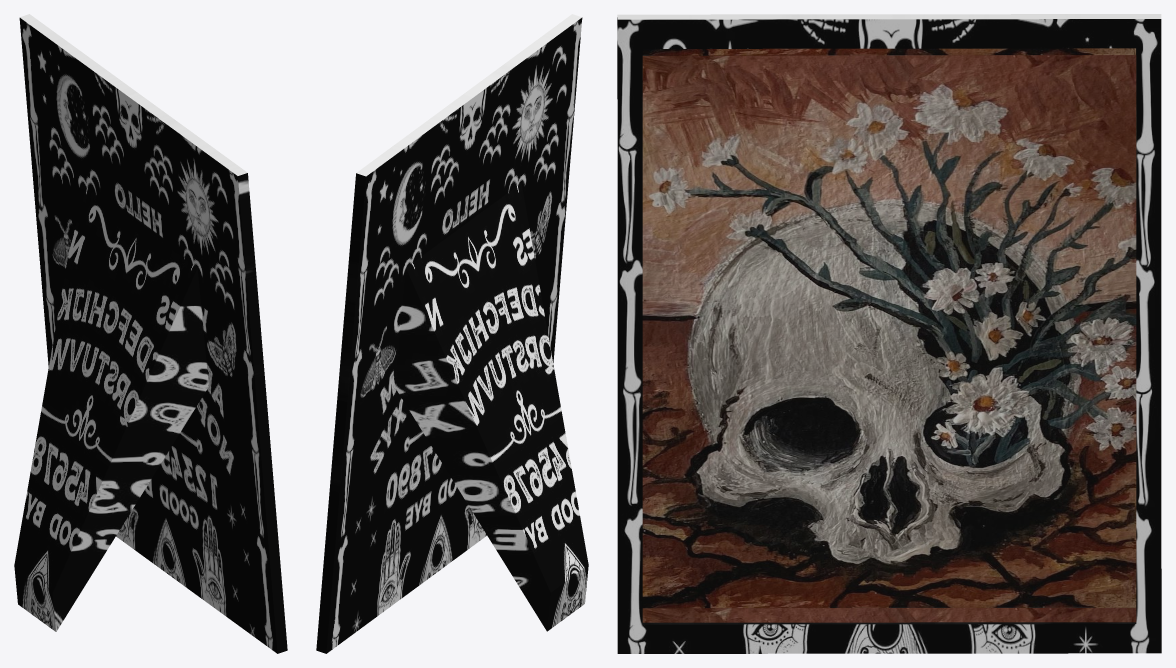
Rendered from Cuadro2.fbx.
3 renders of one model, left to right at view 1: azimuth 30°, elevation 25°; view 2: azimuth 150°, elevation 25°; view 3: azimuth 270°, elevation 25°, orthographic. The views are drawn at different scales.
Visible parts, largest first — view 1: Foto 2; view 2: Foto 2; view 3: Foto 2.
Boxes of the visible parts, <box> form: Foto 2: <box>14,14,287,653</box>; Foto 2: <box>316,14,588,653</box>; Foto 2: <box>617,14,1161,653</box>.
Bounding box in the file's own units: 0.2028 × 0.6641 × 0.5234.
2 materials, 2 textured.
